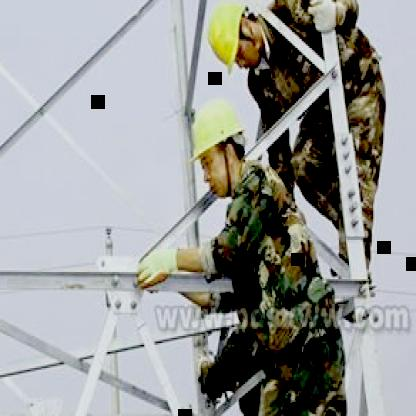helmet: (188, 93, 248, 199), (204, 0, 266, 74)
